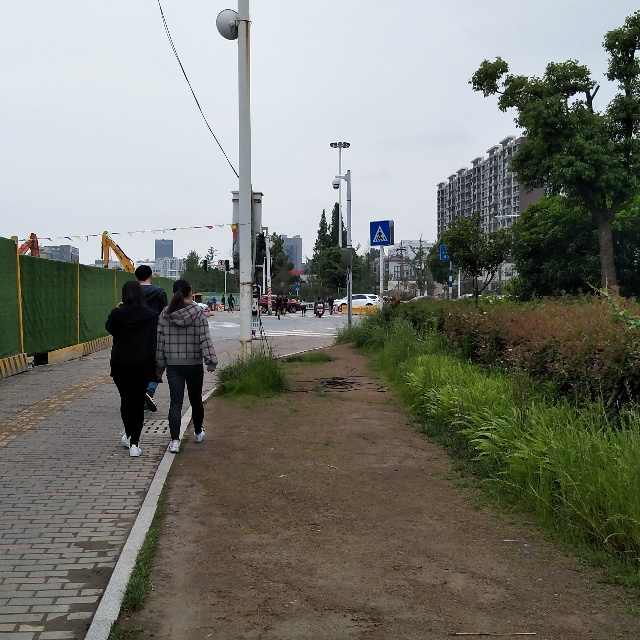crosswalk: (367, 216, 399, 247)
